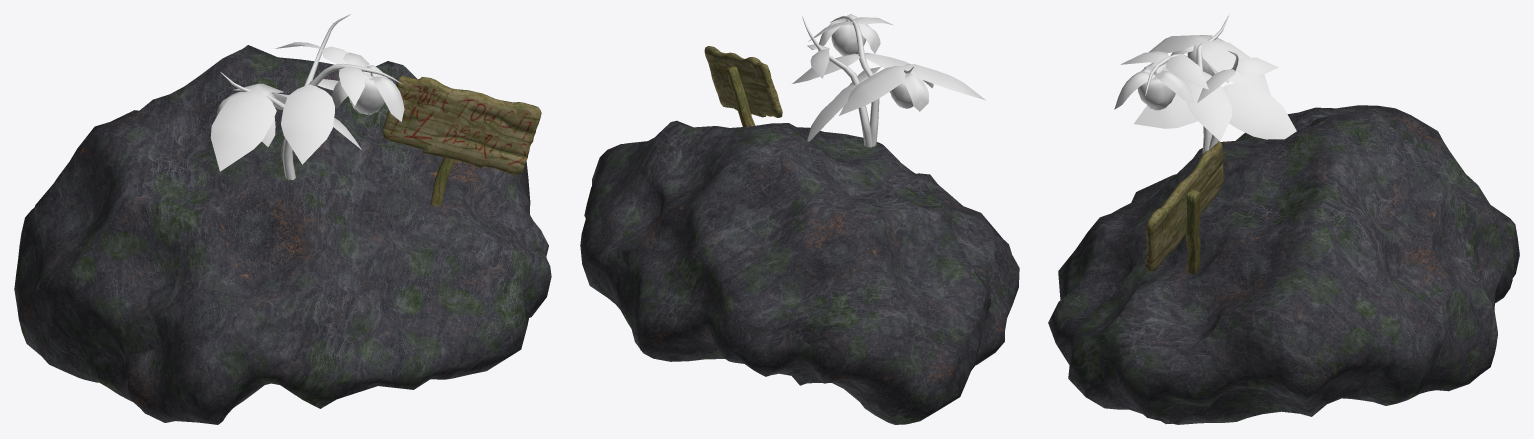
The model's file is Space blackberry.fbx.
The picture shows the model from 3 angles, left to right: view 1: azimuth 30°, elevation 25°; view 2: azimuth 150°, elevation 25°; view 3: azimuth 270°, elevation 25°; orthographic projection. The views are drawn at different scales.
Parts seen in each view (by area): view 1: rock, BlackBerry, Plate; view 2: rock, BlackBerry, Plate; view 3: rock, BlackBerry, Plate.
Boxes of the visible parts, left/top/right/bottom form: rock: left=14, top=45, right=551, bottom=424; BlackBerry: left=210, top=14, right=404, bottom=179; Plate: left=382, top=75, right=541, bottom=206; rock: left=580, top=120, right=1019, bottom=424; BlackBerry: left=792, top=14, right=986, bottom=147; Plate: left=704, top=46, right=782, bottom=126; rock: left=1048, top=105, right=1519, bottom=424; BlackBerry: left=1114, top=14, right=1296, bottom=153; Plate: left=1145, top=141, right=1223, bottom=273.
Size of the model in its own units: 1472 by 1126 by 1332.
